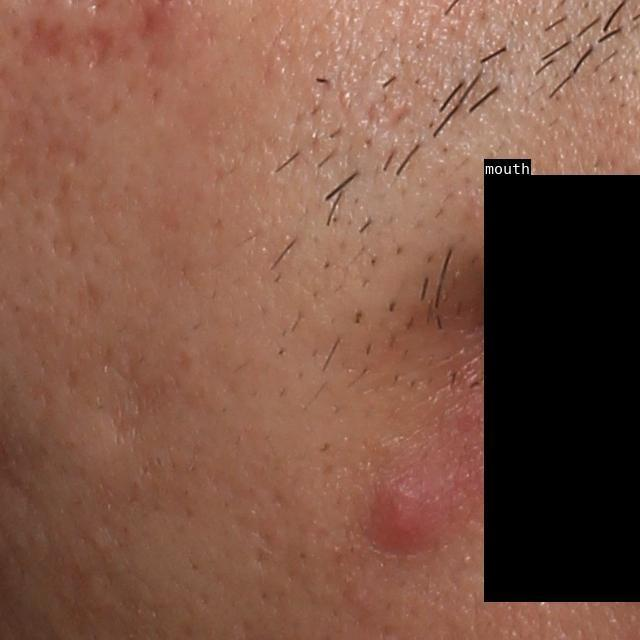atrophic_scar: (105, 344, 184, 444), (21, 14, 75, 68), (79, 23, 115, 75), (374, 103, 419, 134)
papule: (365, 483, 437, 556)
